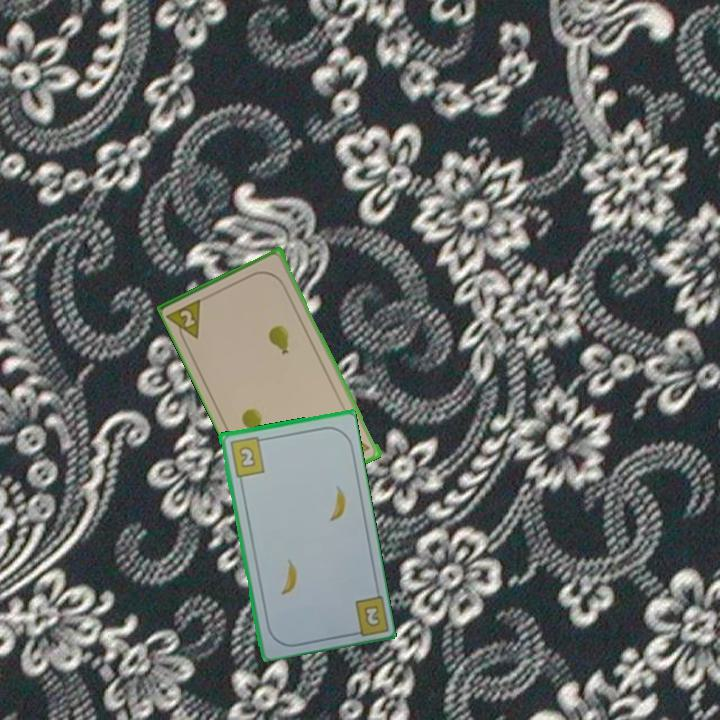2b: (345, 590, 389, 638), (226, 433, 268, 479)
2p: (177, 306, 198, 331)
